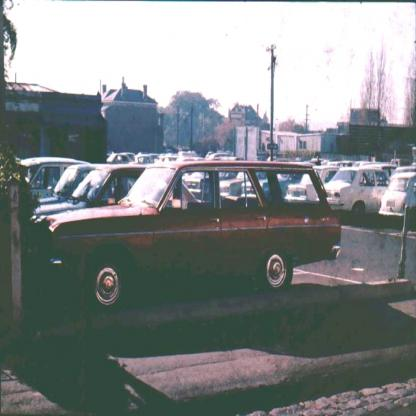Car: (21, 149, 416, 316)
